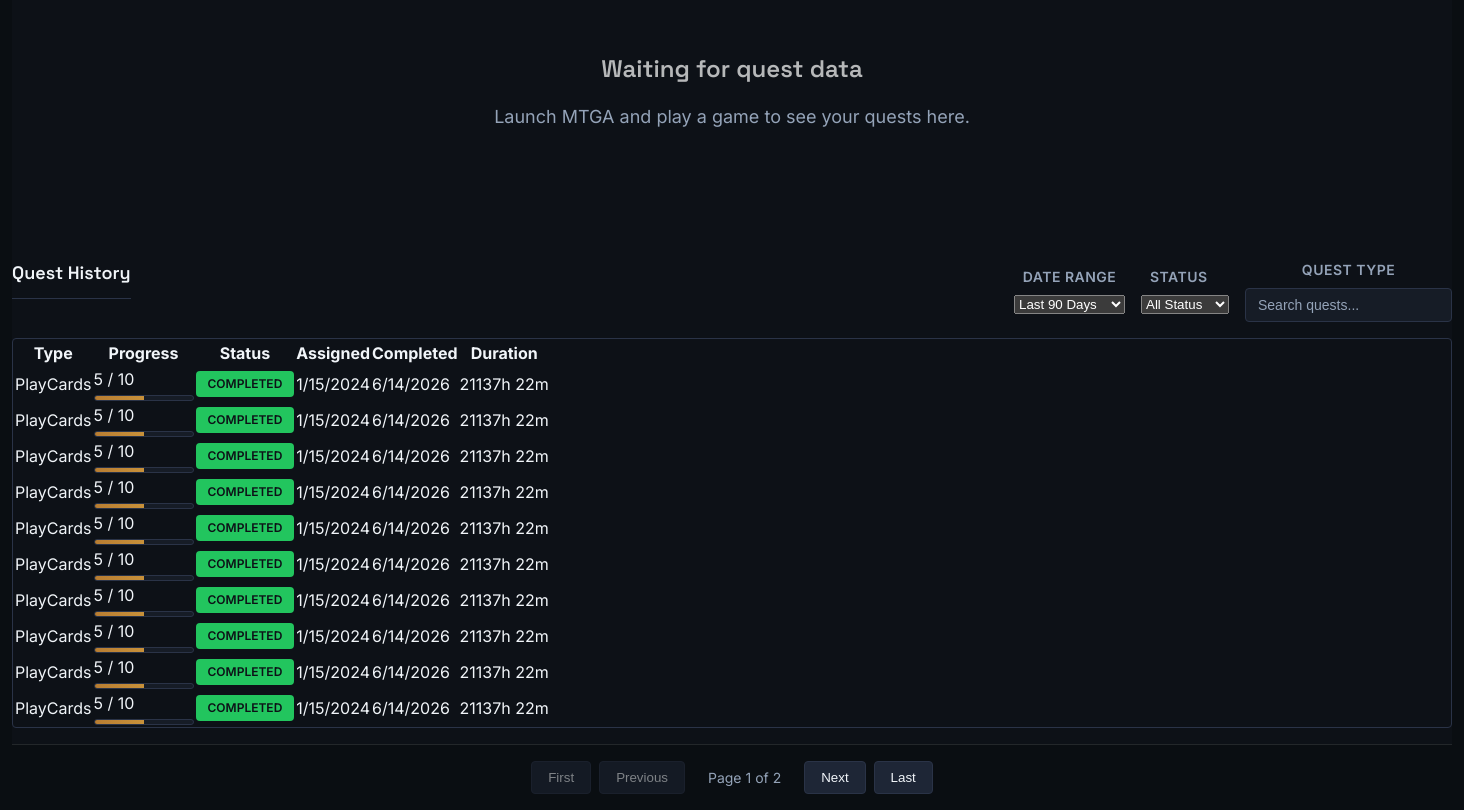
Quests › Pagination › should navigate to previous page
This screenshot has width=1464, height=810.
(page scrolled)
Expected: the text "Page 1 of 2" is shown, [708,768,781,786]
Click the button "Next" at {"x": 835, "y": 777}, box [804,760,866,794]
(page scrolled)
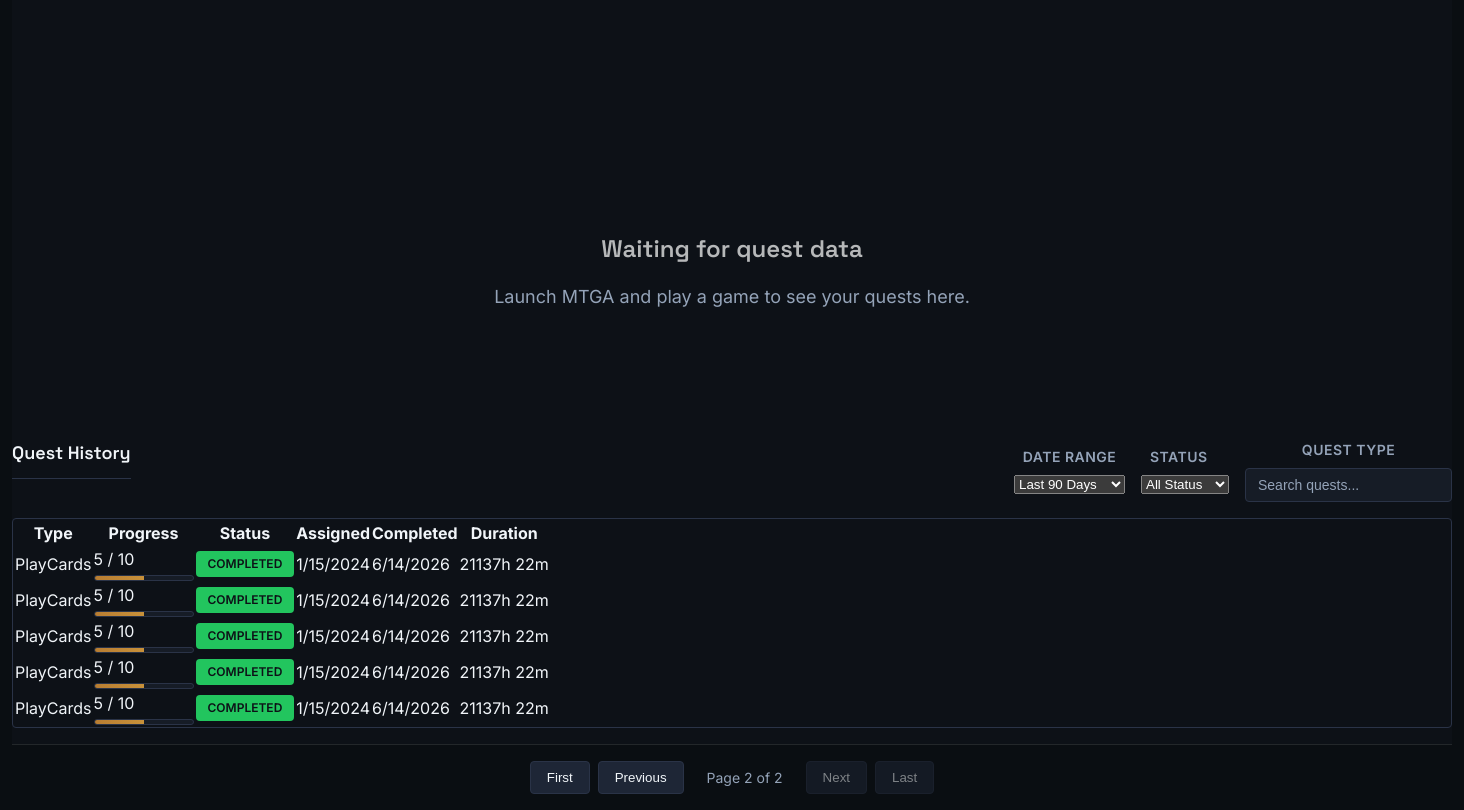
Expected: the text "Page 2 of 2" is shown, [707,768,783,786]
Click the button "Previous" at {"x": 641, "y": 777}, box [598,760,684,794]
(page scrolled)
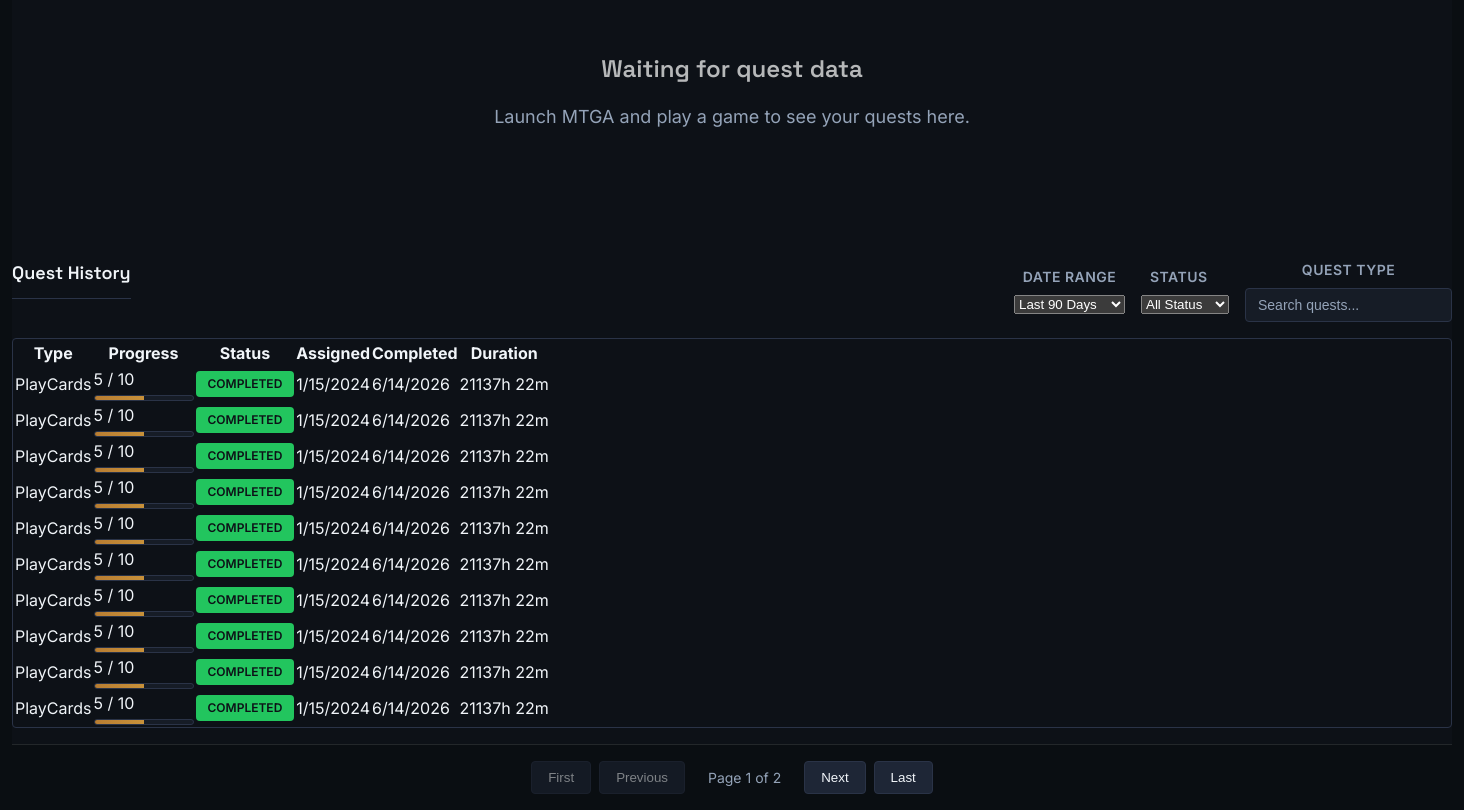
Expected: the text "Page 1 of 2" is shown, [708,768,781,786]
